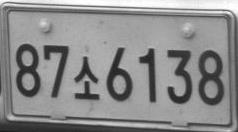1: (137, 47, 163, 102)
3: (166, 48, 193, 104)
6: (105, 47, 133, 102)
7: (42, 43, 69, 97)
8: (197, 49, 224, 106), (14, 42, 41, 98)
소: (73, 56, 99, 100)
